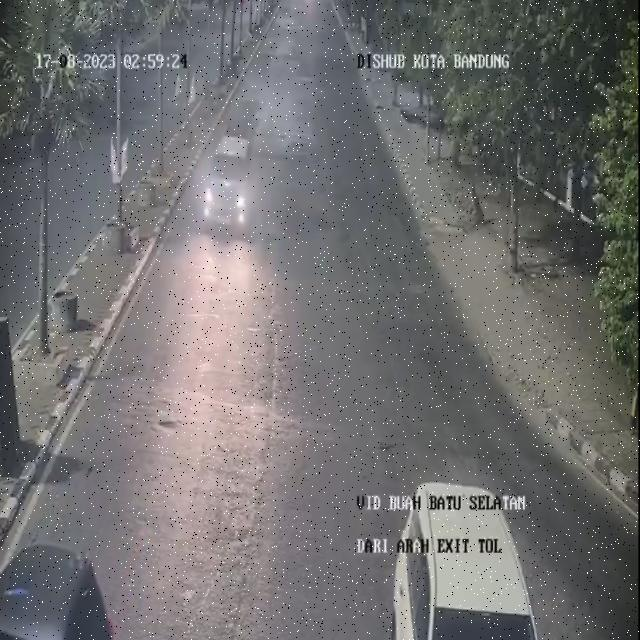cars: (393, 472, 549, 640), (0, 539, 127, 640), (198, 133, 258, 247)
